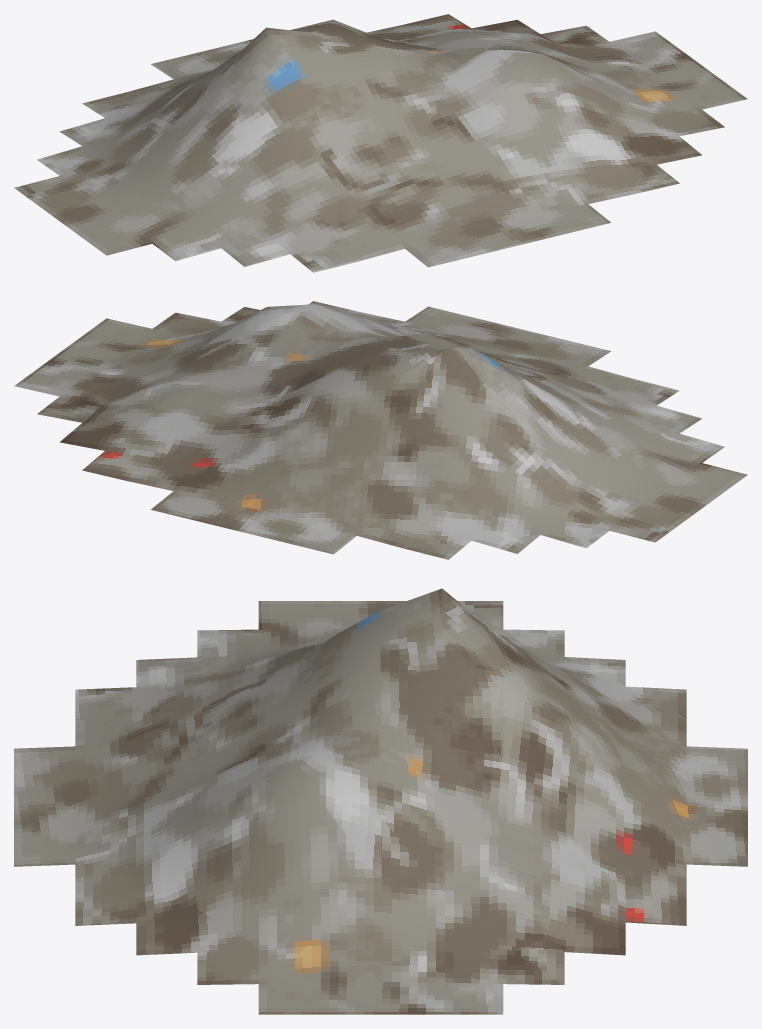
The model's file is dustpile_own.glb.
The picture shows the model from 3 angles, top to bottom: view 1: azimuth 30°, elevation 25°; view 2: azimuth 150°, elevation 25°; view 3: azimuth 270°, elevation 25°; orthographic projection. The views are drawn at different scales.
Visible parts, largest first — view 1: mesh; view 2: mesh; view 3: mesh.
Boxes of the visible parts, x1,y1,x2,y2 form: mesh: (14,14,747,272); mesh: (14,301,747,559); mesh: (14,588,747,1014).
Bounding box in the file's own units: 0.4429 × 0.08 × 0.3321.
Materials: 1 (1 with a texture image).
